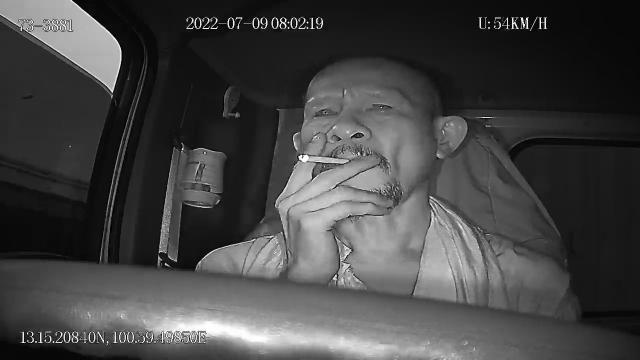SafeDriving: (359, 93, 402, 119), (306, 100, 343, 126)
Smoking: (296, 152, 352, 167)
